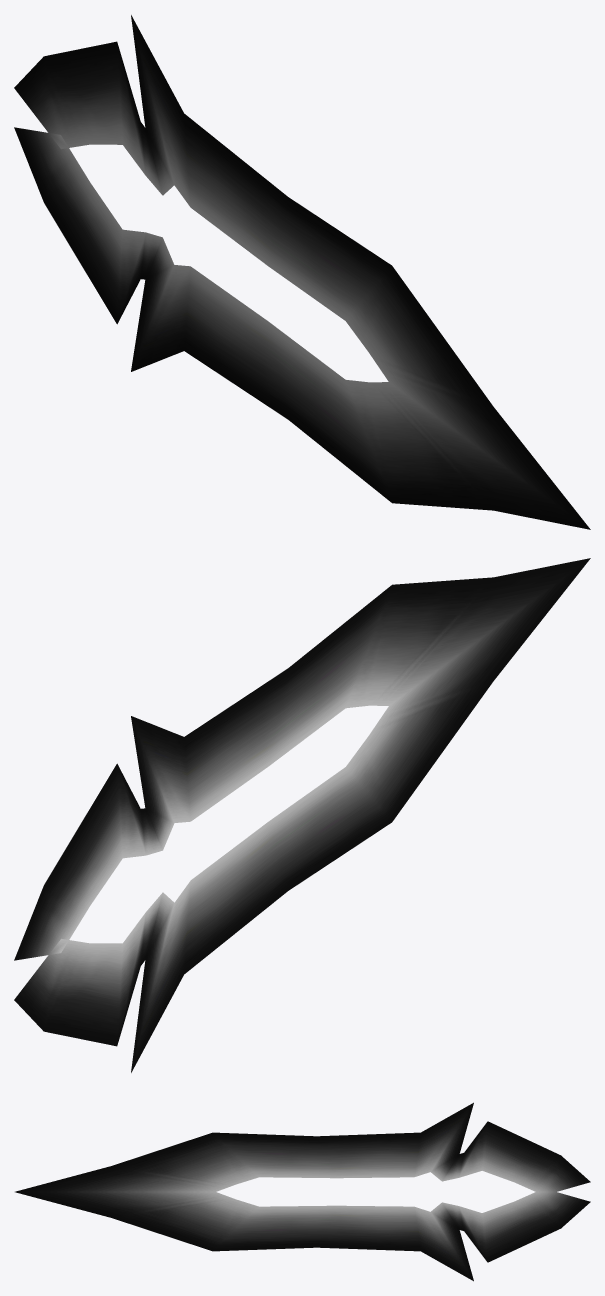
Rendered from yinxinmofazhijian_Glow.fbx.
The picture shows the model from 3 angles, top to bottom: view 1: azimuth 30°, elevation 25°; view 2: azimuth 150°, elevation 25°; view 3: azimuth 270°, elevation 25°; orthographic projection. The views are drawn at different scales.
Visible parts, largest first — view 1: yinxinmofazhijian_Glow; view 2: yinxinmofazhijian_Glow; view 3: yinxinmofazhijian_Glow.
Part boxes in pixels (x1=…): yinxinmofazhijian_Glow: x1=14, y1=15, x2=590, y2=529; yinxinmofazhijian_Glow: x1=14, y1=558, x2=590, y2=1072; yinxinmofazhijian_Glow: x1=15, y1=1102, x2=590, y2=1281.
Bounding box in the file's own units: 0.0513 × 226 × 660.
